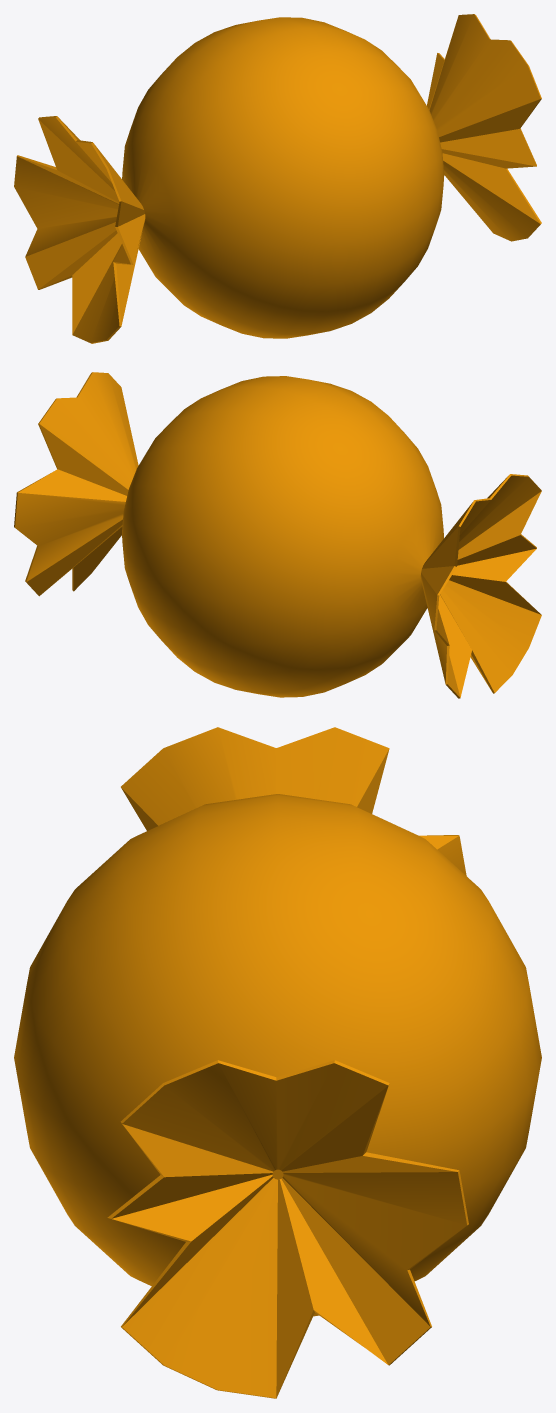
Rendered from Candy_Ball.fbx.
The picture shows the model from 3 angles, top to bottom: view 1: azimuth 30°, elevation 25°; view 2: azimuth 150°, elevation 25°; view 3: azimuth 270°, elevation 25°; orthographic projection. The views are drawn at different scales.
Visible parts, largest first — view 1: wrapper_candy_ball; view 2: wrapper_candy_ball; view 3: wrapper_candy_ball.
Boxes of the visible parts, x1,y1,x2,y2 form: wrapper_candy_ball: (14,14,541,343); wrapper_candy_ball: (14,372,541,698); wrapper_candy_ball: (14,727,541,1398).
Size of the model in its own units: 3.02 by 2 by 2.
